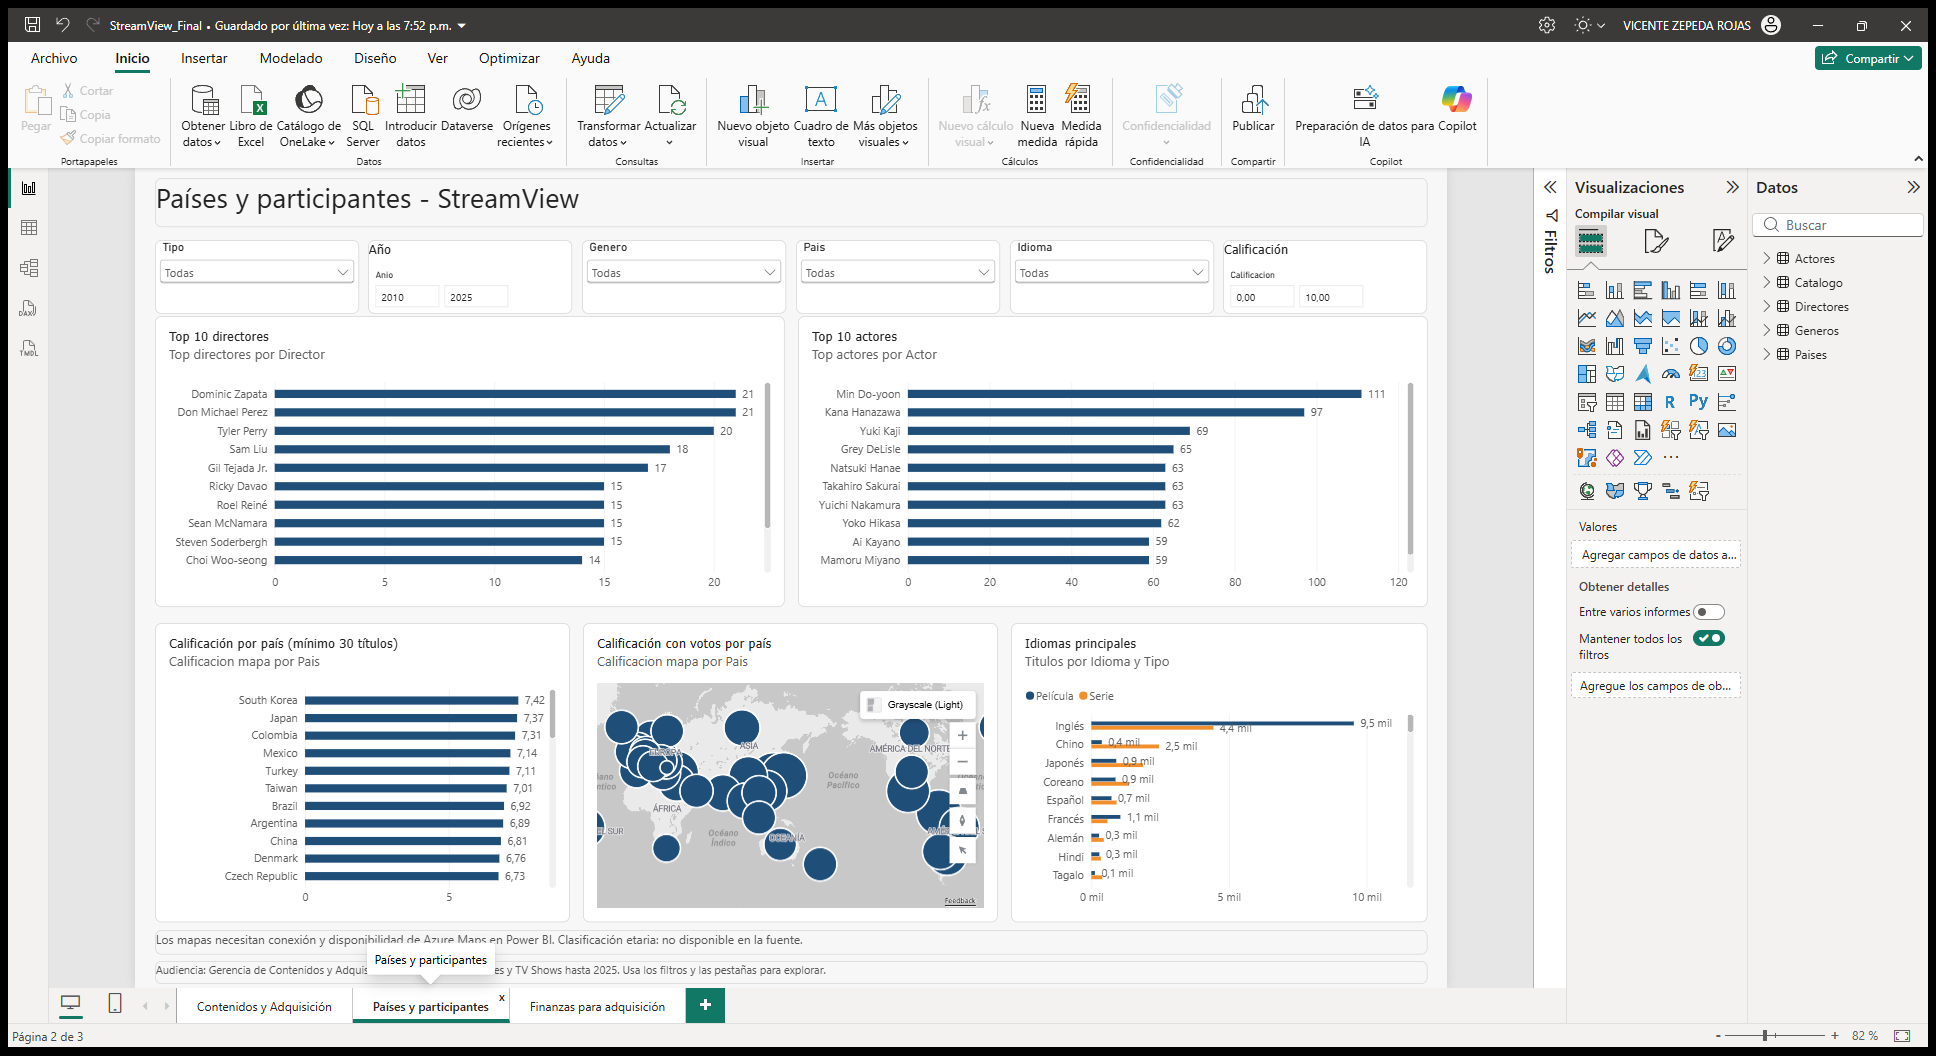

Layout of this report page (visuals, bound fields, positions):
{"tool":"powerbi","page":{"name":"Países y participantes","canvas":[1600,1000],"ordinal":1},"visuals":[{"type":"textbox","box":[24,12,1552,60],"z":18},{"type":"slicer","title":"Tipo","fields":{"Values":["Catalogo.Tipo"]},"box":[24,88,248.7,90],"z":19},{"type":"slicer","title":"Año","fields":{"Values":["Catalogo.Anio"]},"box":[284.7,88,248.7,90],"z":20},{"type":"slicer","title":"Género","fields":{"Values":["Generos.Genero"]},"box":[545.3,88,248.7,90],"z":21},{"type":"slicer","title":"País","fields":{"Values":["Paises.Pais"]},"box":[806,88,248.7,90],"z":22},{"type":"slicer","title":"Idioma","fields":{"Values":["Catalogo.Idioma"]},"box":[1066.7,88,248.7,90],"z":23},{"type":"slicer","title":"Calificación","fields":{"Values":["Catalogo.Calificacion"]},"box":[1327.3,88,248.7,90],"z":24},{"type":"textbox","box":[24,967,1552,28],"z":25},{"type":"clusteredBarChart","title":"Top 10 directores","fields":{"Category":["Directores.Director"],"Y":["Catalogo.Top directores"]},"box":[24,180,768,355],"z":26},{"type":"clusteredBarChart","title":"Top 10 actores","fields":{"Category":["Actores.Actor"],"Y":["Catalogo.Top actores"]},"box":[808,180,768,355],"z":27},{"type":"clusteredBarChart","title":"Calificación por país (mínimo 30 títulos)","fields":{"Category":["Paises.Pais"],"Y":["Catalogo.Calificacion mapa"]},"box":[24,555,506,365],"z":28},{"type":"azureMap","title":"Calificación con votos por país","fields":{"Category":["Paises.Pais"],"Size":["Catalogo.Calificacion mapa"]},"box":[546,555,506,365],"z":29},{"type":"clusteredBarChart","title":"Idiomas principales","fields":{"Category":["Catalogo.Idioma"],"Y":["Catalogo.Titulos"],"Series":["Catalogo.Tipo"]},"box":[1068,555,508,365],"z":30},{"type":"textbox","box":[24,929,1552,30],"z":31}]}

Visuals, with their boxes on the page's 1600x1000 design canvas (x1, y1, x2, y2). These are canvas units, not pixel positions in the 1936x1056 screenshot, which may show the page scaled, cropped or inside an application window:
textbox: 24/12/1576/72
"Tipo" slicer: 24/88/273/178
"Año" slicer: 285/88/533/178
"Género" slicer: 545/88/794/178
"País" slicer: 806/88/1055/178
"Idioma" slicer: 1067/88/1315/178
"Calificación" slicer: 1327/88/1576/178
textbox: 24/967/1576/995
"Top 10 directores" clusteredBarChart: 24/180/792/535
"Top 10 actores" clusteredBarChart: 808/180/1576/535
"Calificación por país (mínimo 30 títulos)" clusteredBarChart: 24/555/530/920
"Calificación con votos por país" azureMap: 546/555/1052/920
"Idiomas principales" clusteredBarChart: 1068/555/1576/920
textbox: 24/929/1576/959
